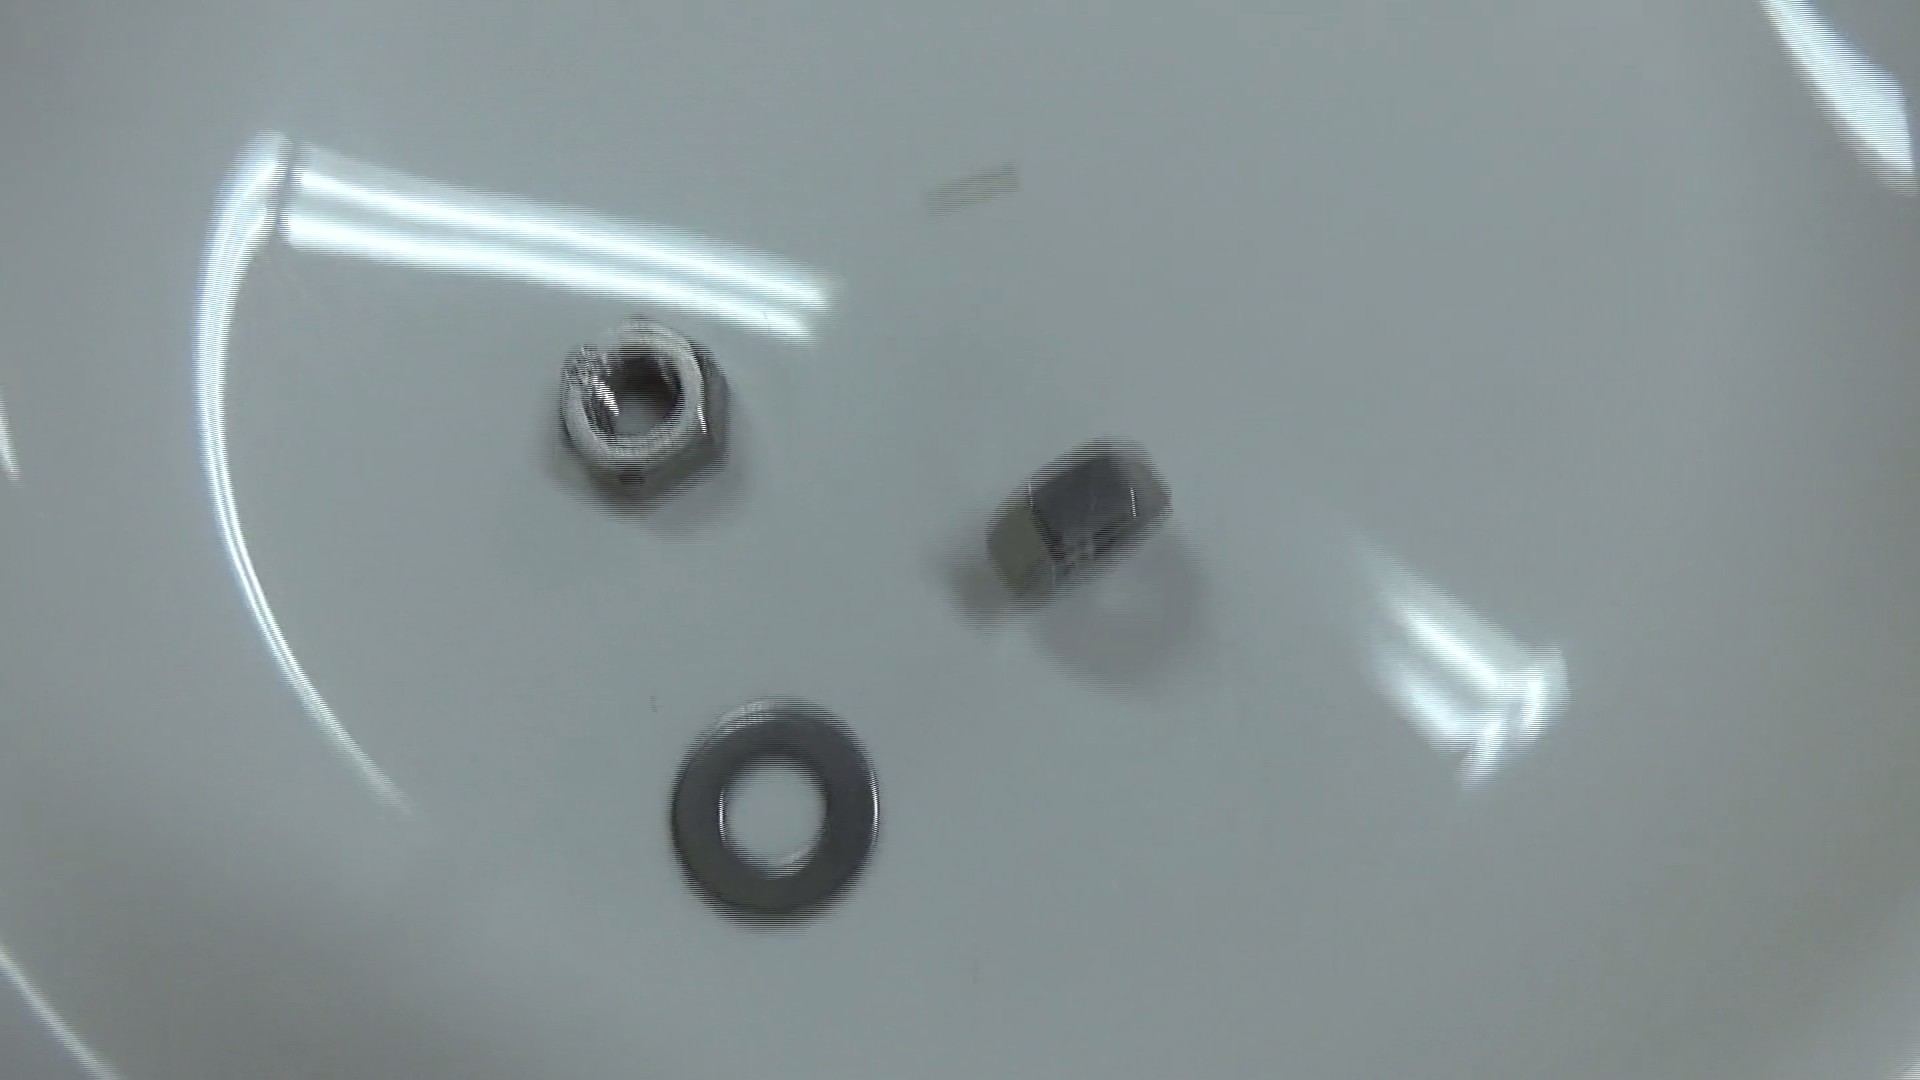nut: (543, 295, 738, 522), (969, 423, 1176, 604)
washer: (654, 684, 895, 930)
